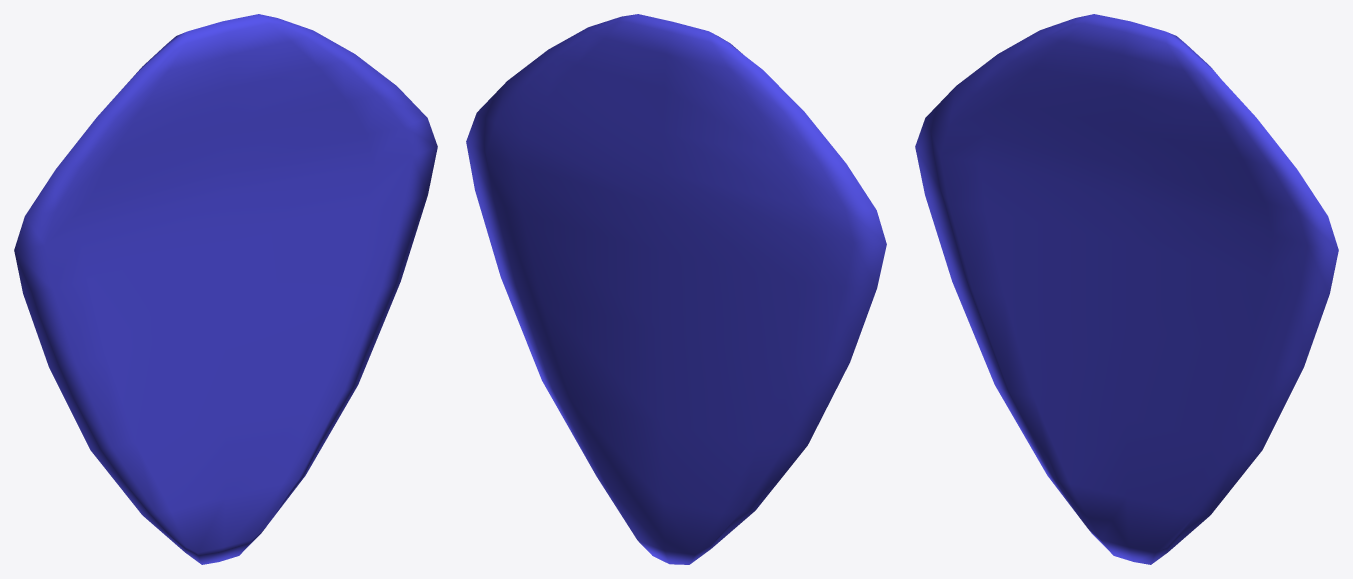
File: escama_dragon.fbx
3 renders of one model, left to right at view 1: azimuth 30°, elevation 25°; view 2: azimuth 150°, elevation 25°; view 3: azimuth 330°, elevation 25°, orthographic.
Visible parts, largest first — view 1: escama_dragon; view 2: escama_dragon; view 3: escama_dragon.
Boxes of the visible parts, left/top/right/bottom form: escama_dragon: left=14, top=14, right=437, bottom=564; escama_dragon: left=466, top=14, right=886, bottom=564; escama_dragon: left=915, top=14, right=1338, bottom=564.
Bounding box in the file's own units: 75.88 × 93.01 × 6.25.
